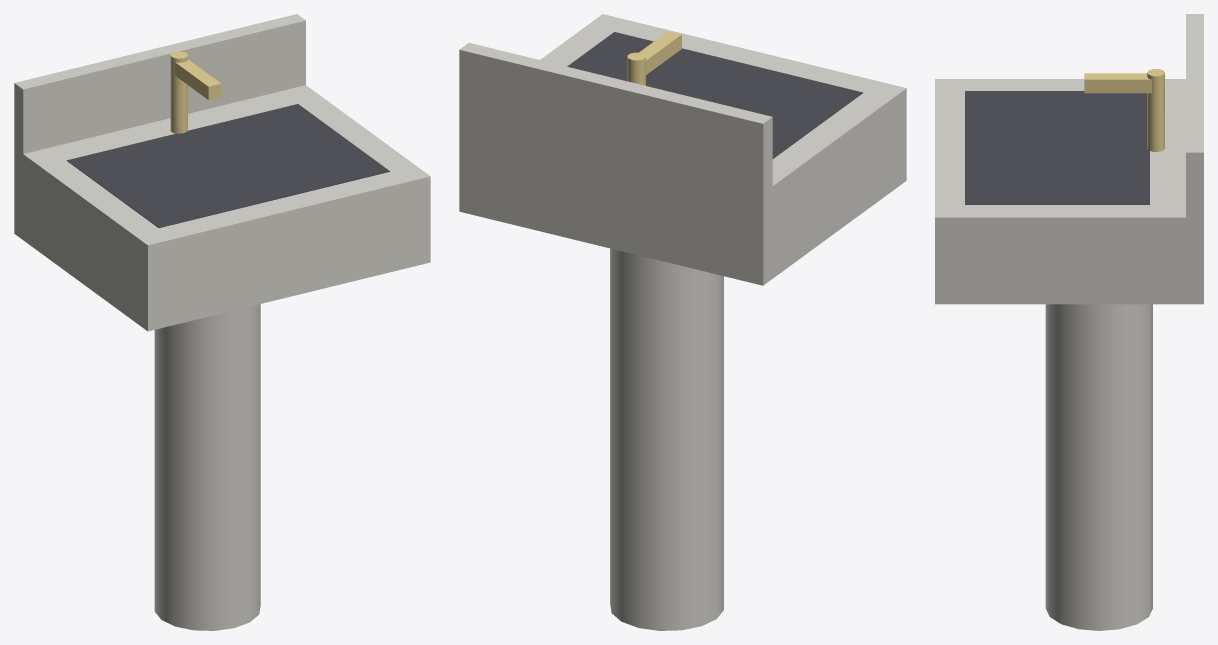
File: bb_set_basin.fbx
The picture shows the model from 3 angles, left to right: view 1: azimuth 30°, elevation 25°; view 2: azimuth 150°, elevation 25°; view 3: azimuth 270°, elevation 25°; orthographic projection. The views are drawn at different scales.
Parts seen in each view (by area): view 1: bb_set_basin; view 2: bb_set_basin; view 3: bb_set_basin.
Part boxes in pixels (bbox=[...]): bb_set_basin: bbox=[14, 14, 430, 630]; bb_set_basin: bbox=[459, 14, 906, 630]; bb_set_basin: bbox=[935, 14, 1203, 630].
Size of the model in its own units: 0.55 by 0.99 by 0.45.
